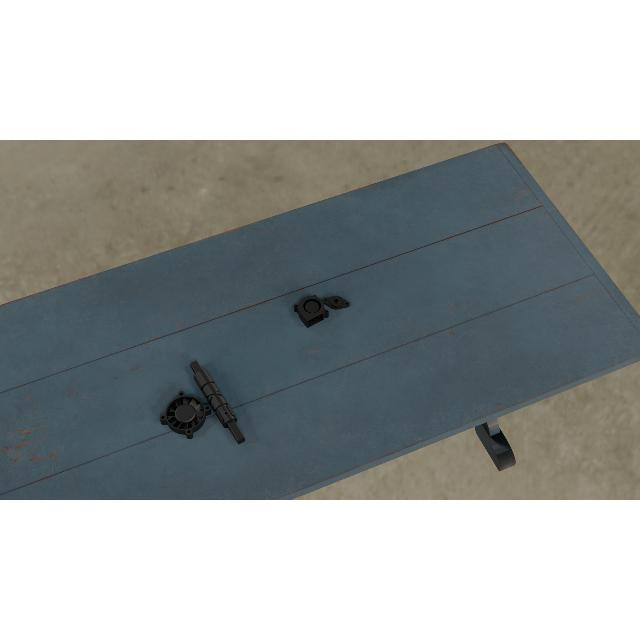Pieza1: (187, 356, 250, 448)
Pieza2: (321, 292, 351, 312)
Pieza3: (292, 292, 330, 328)
Pieza4: (158, 390, 214, 442)
